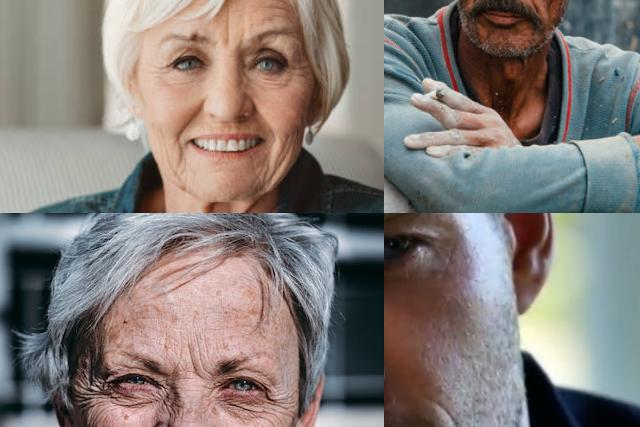bunny_line: (160, 393, 182, 420)
crows_feet: (84, 376, 115, 406), (264, 388, 288, 423), (290, 58, 310, 84), (156, 60, 172, 80)
forehead: (267, 0, 291, 19)
frown_line: (174, 341, 208, 379), (223, 10, 233, 49)
gummy_smile: (179, 98, 209, 130), (245, 95, 273, 128), (521, 0, 537, 6)
masseter: (270, 140, 292, 184)
sad_smile: (171, 141, 187, 167)
